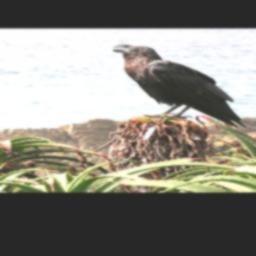Crow: (105, 43, 251, 129)
